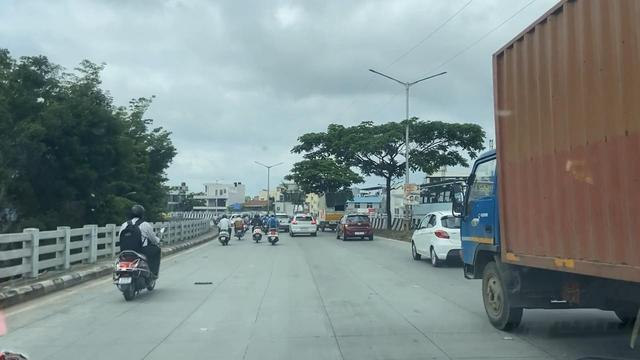LMV: (125, 213, 159, 299), (209, 214, 239, 248), (339, 213, 375, 240), (267, 210, 282, 246), (249, 211, 264, 242), (291, 214, 313, 235)
